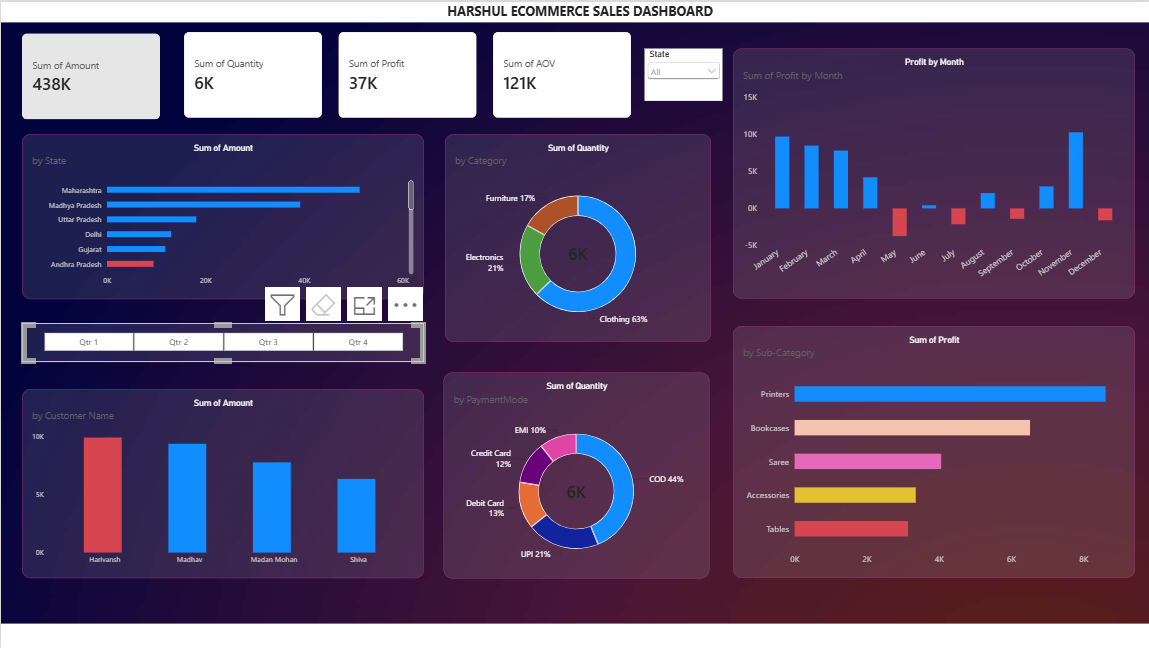

The page's visual inventory and layout, read from the dashboard file:
{"tool":"powerbi","page":{"name":"Page 1","canvas":[1920,1080],"ordinal":0},"visuals":[{"type":"textbox","box":[10,0,1910,50],"z":0},{"type":"columnChart","title":"Profit by Month","fields":{"Category":["Orders.Order Date.Variation.Date Hierarchy.Month"],"Y":["Sum(Details.Profit)"]},"box":[1220,76.7,670,416.7],"z":1000},{"type":"barChart","fields":{"Category":["Details.Sub-Category"],"Y":["Sum(Details.Profit)"]},"box":[1220,540,670,420],"z":2000},{"type":"donutChart","fields":{"Category":["Details.PaymentMode","Details.Category"],"Y":["Sum(Details.Quantity)"]},"box":[736.7,616.7,443.3,343.3],"z":3000},{"type":"donutChart","fields":{"Category":["Details.Category"],"Y":["Sum(Details.Quantity)"]},"box":[740,220,443.3,346.7],"z":4000},{"type":"cardVisual","fields":{"Data":["Sum(Details.Amount)"]},"box":[35,52.5,230,143.3],"z":5000},{"type":"cardVisual","fields":{"Data":["Sum(Details.Quantity)"]},"box":[305,50,230,143.3],"z":6000},{"type":"cardVisual","fields":{"Data":["Sum(Details.Profit)"]},"box":[562.5,50,230,143.3],"z":7000},{"type":"cardVisual","fields":{"Data":["Sum(Details.AOV)"]},"box":[820,50,230,143.3],"z":8000},{"type":"barChart","fields":{"Category":["Orders.State"],"Y":["Sum(Details.Amount)"]},"box":[35,220,670,275],"z":9000},{"type":"columnChart","fields":{"Category":["Orders.Customer Name"],"Y":["Sum(Details.Amount)"]},"box":[35,645,670,315],"z":10000},{"type":"slicer","fields":{"Values":["Orders.Order Date.Variation.Date Hierarchy.Quarter"]},"box":[35,535,670,65],"z":10001},{"type":"slicer","fields":{"Values":["Orders.State"]},"box":[1072.5,77.5,130,87.5],"z":10002}]}

Visuals, with their boxes in screenshot pixels (x1, y1, x2, y2), scaled from the page's 1920x1080 canvas onto the 1149x648 screenshot:
textbox: box(6, 0, 1148, 30)
"Profit by Month" columnChart: box(730, 46, 1131, 296)
barChart - Details.Sub-Category x Sum(Details.Profit): box(730, 324, 1131, 576)
donutChart - Details.PaymentMode x Details.Category: box(441, 370, 706, 576)
donutChart - Details.Category x Sum(Details.Quantity): box(443, 132, 708, 340)
cardVisual - Sum(Details.Amount): box(21, 32, 159, 117)
cardVisual - Sum(Details.Quantity): box(183, 30, 320, 116)
cardVisual - Sum(Details.Profit): box(337, 30, 474, 116)
cardVisual - Sum(Details.AOV): box(491, 30, 628, 116)
barChart - Orders.State x Sum(Details.Amount): box(21, 132, 422, 297)
columnChart - Orders.Customer Name x Sum(Details.Amount): box(21, 387, 422, 576)
slicer - Orders.Order Date.Variation.Date Hierarchy.Quarter: box(21, 321, 422, 360)
slicer - Orders.State: box(642, 46, 720, 99)
